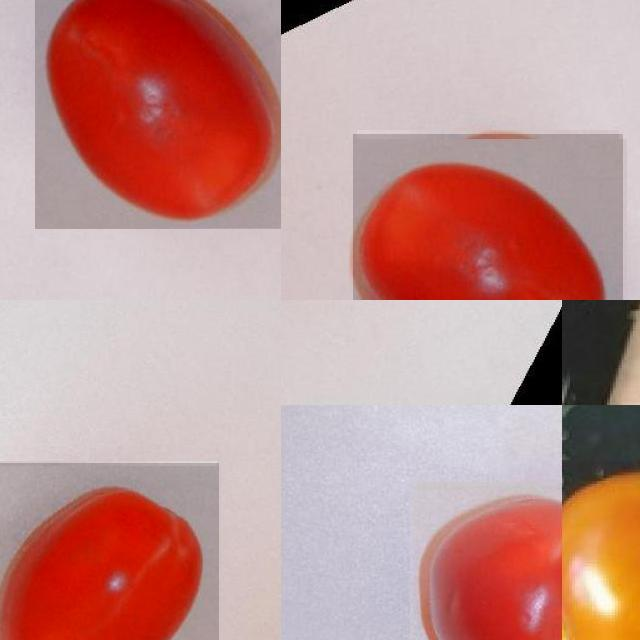Fresh Tomato: (35, 0, 281, 228), (352, 134, 623, 300), (0, 463, 219, 640), (413, 486, 562, 640)
